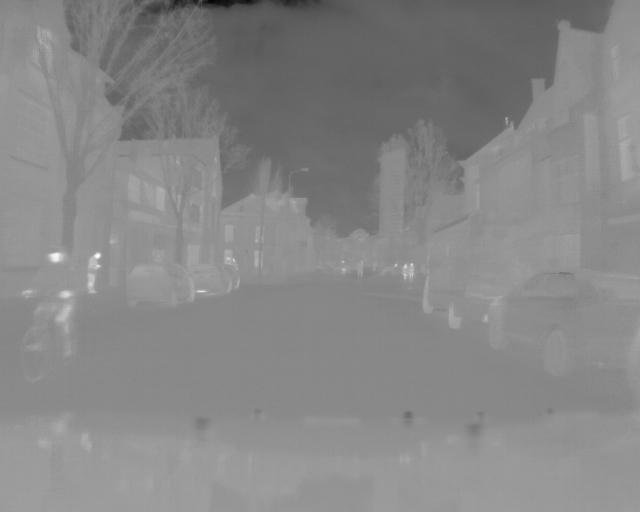car: (488, 270, 640, 372), (422, 256, 519, 328), (125, 259, 195, 313), (190, 261, 242, 293)
person: (28, 246, 77, 355), (85, 246, 101, 299), (401, 260, 408, 282), (410, 261, 416, 286)
